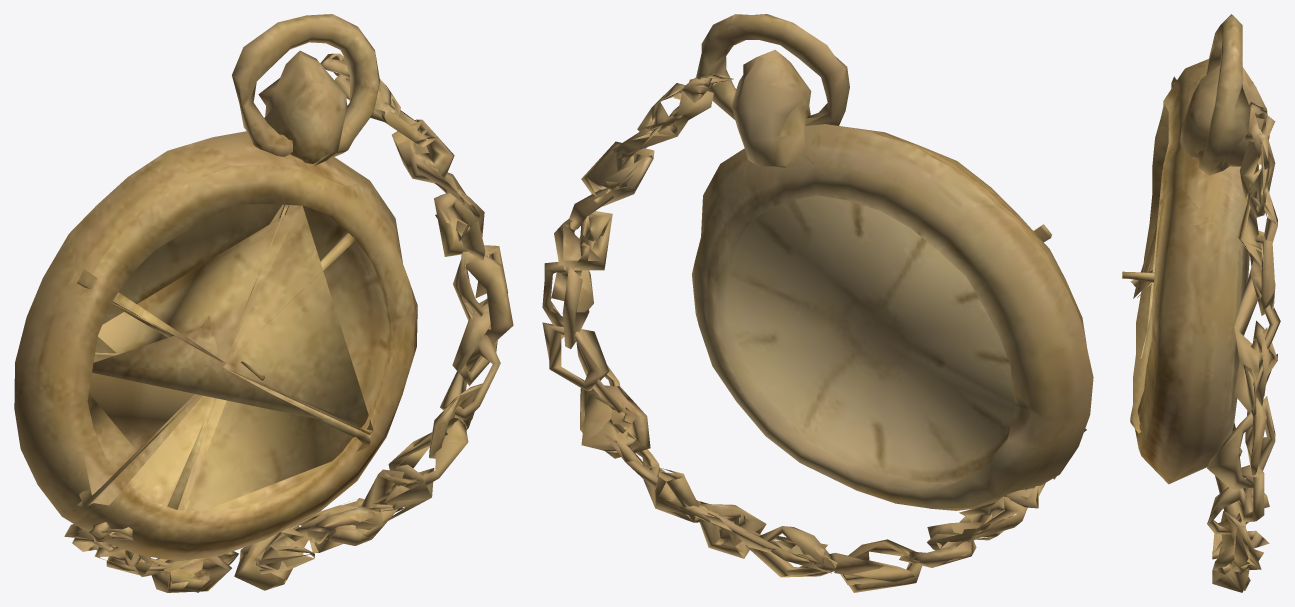
The model's file is acc_pocket_watch.glb.
3 views of the same model, side by side, from view 1: azimuth 30°, elevation 25°; view 2: azimuth 150°, elevation 25°; view 3: azimuth 270°, elevation 25° (orthographic).
Bounding box in the file's own units: 0.1069 × 0.1094 × 0.0283.
Materials: 1 (1 with a texture image).
